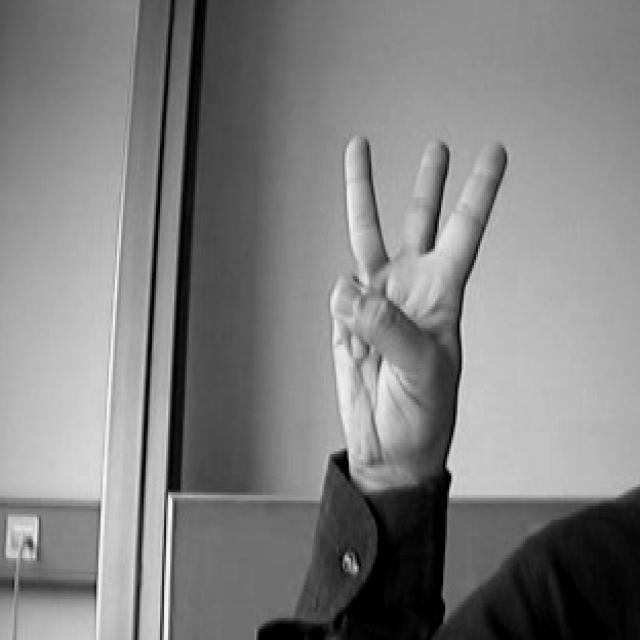W: (314, 127, 522, 469)
